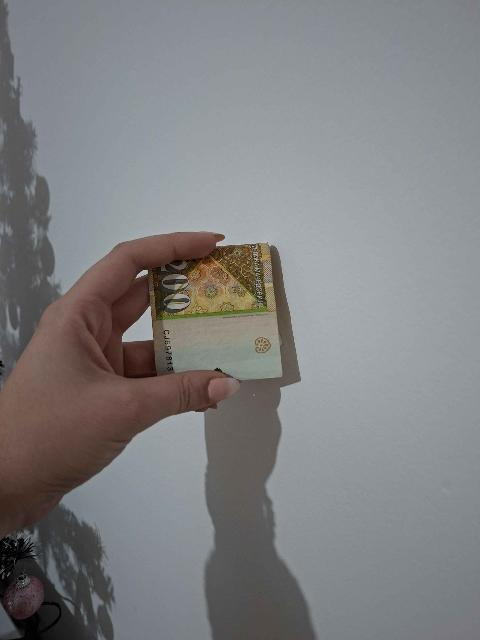note: (149, 244, 282, 379)
